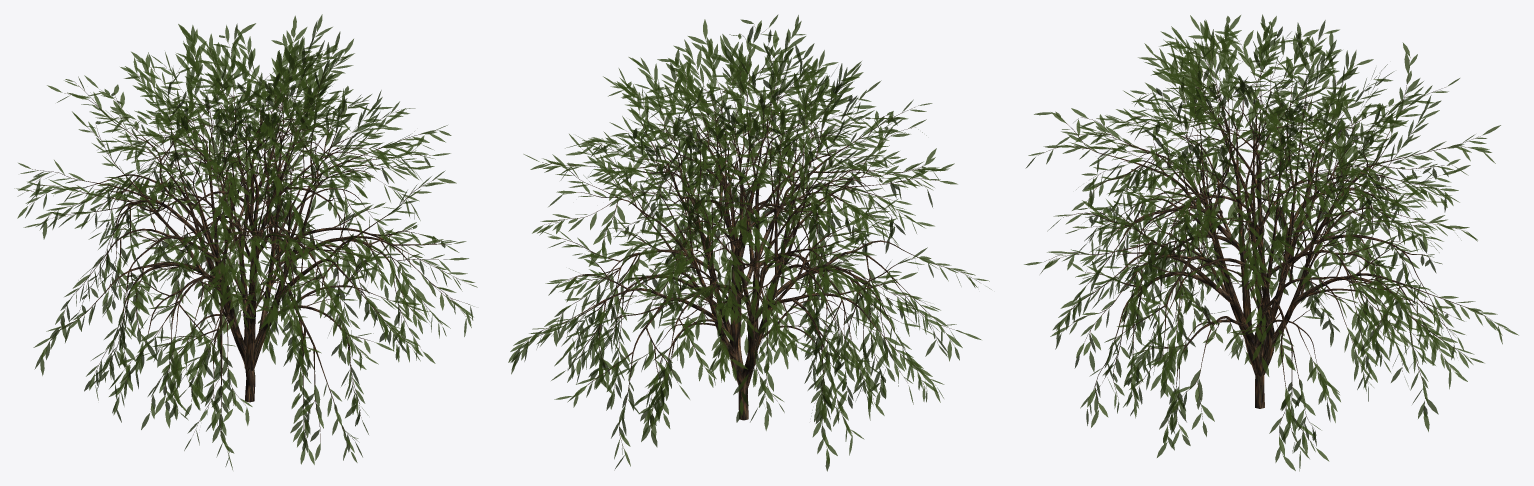
Rendered from Dark Wood Tree 2.fbx.
3 views of the same model, side by side, from view 1: azimuth 30°, elevation 25°; view 2: azimuth 150°, elevation 25°; view 3: azimuth 270°, elevation 25° (orthographic). The views are drawn at different scales.
Parts seen in each view (by area): view 1: leaves 2.001, Dark Wood Tree 2; view 2: leaves 2.001, Dark Wood Tree 2; view 3: leaves 2.001, Dark Wood Tree 2.
Part boxes in pixels (box(x1,y1,x2,y2)): leaves 2.001: box(14, 14, 477, 469); Dark Wood Tree 2: box(26, 32, 469, 455); leaves 2.001: box(508, 14, 991, 471); Dark Wood Tree 2: box(518, 24, 979, 448); leaves 2.001: box(1024, 14, 1518, 471); Dark Wood Tree 2: box(1038, 25, 1502, 454).
Bounding box in the file's own units: 836 × 767 × 870.
